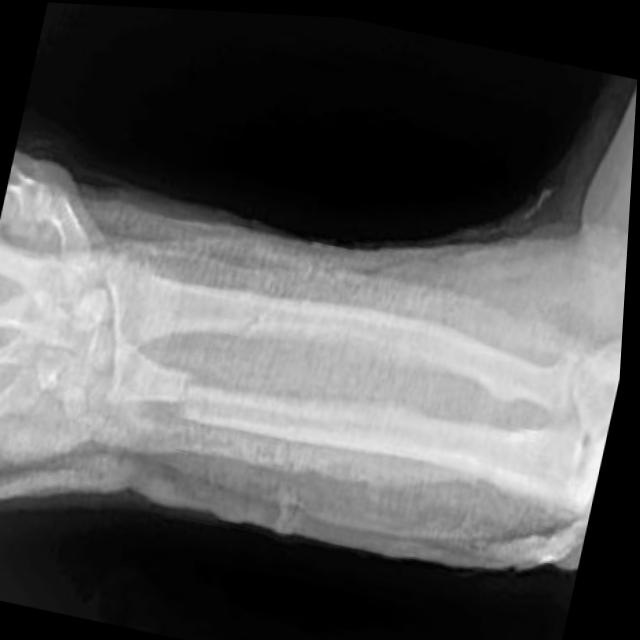fracture: (221, 260, 295, 360), (158, 342, 222, 447)
